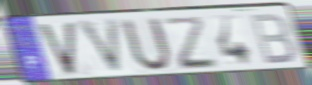4: (220, 14, 255, 68)
B: (248, 12, 299, 67)
U: (119, 17, 174, 75)
V: (75, 17, 126, 78), (35, 20, 78, 79)
Z: (161, 15, 222, 72)
